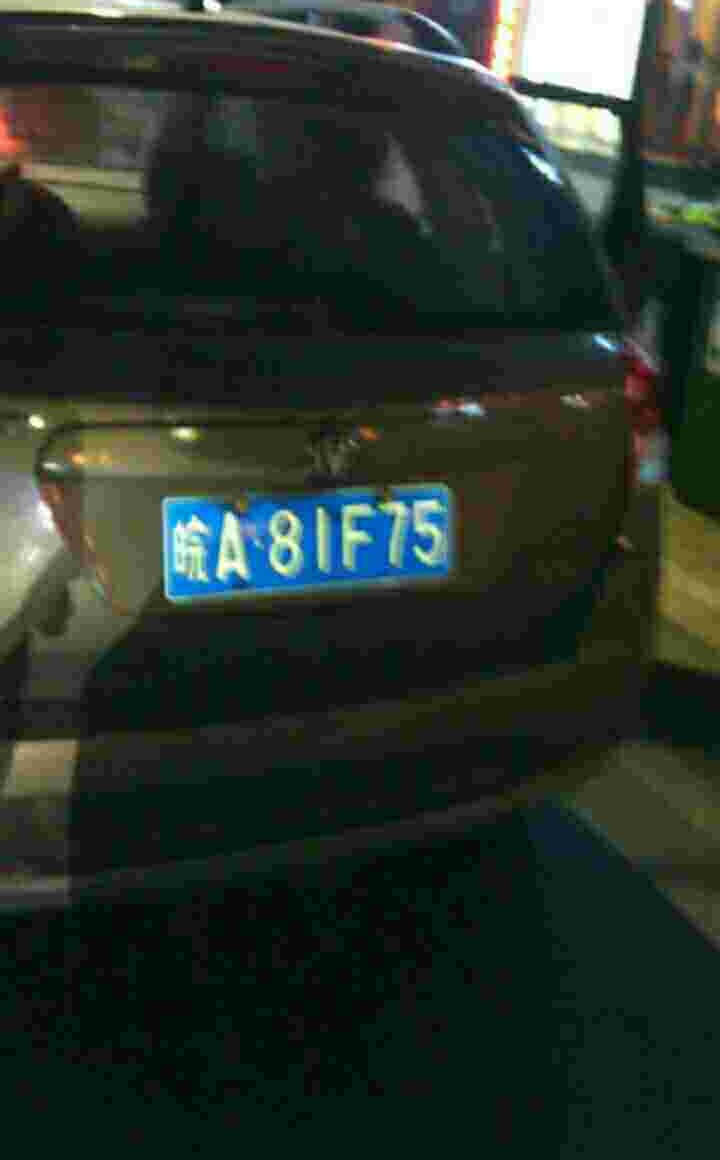license_plate: (172, 502, 461, 599)
